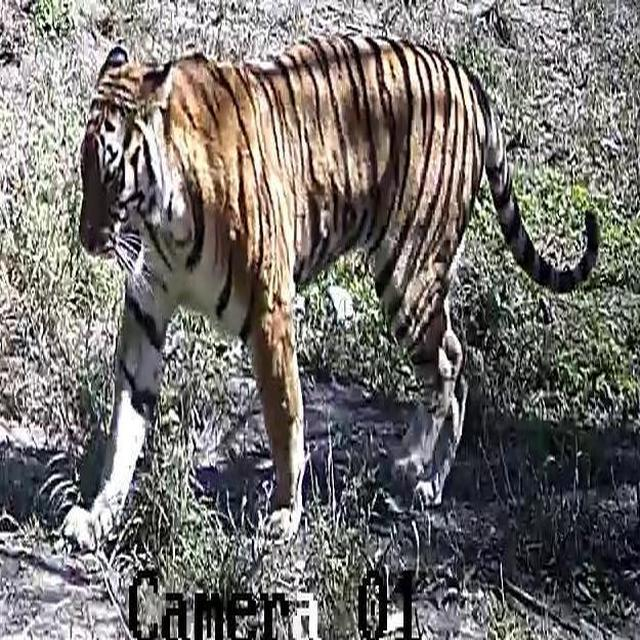tiger: (50, 31, 600, 552)
